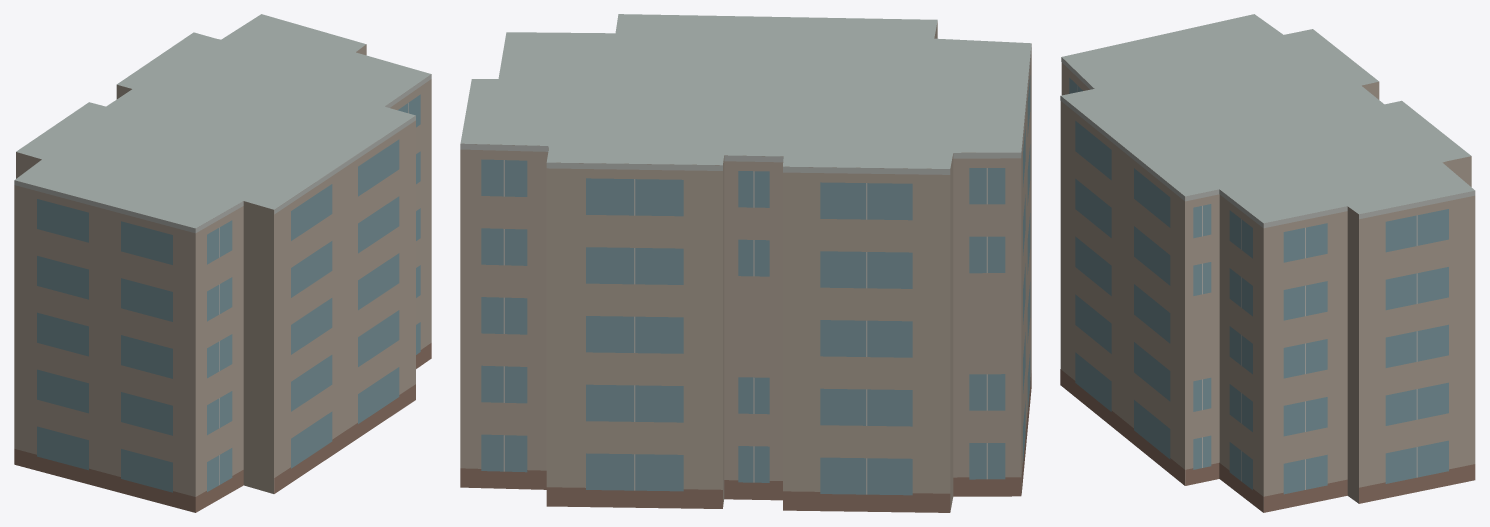
Rendered from survey-upis-32863823.glb.
3 views of the same model, side by side, from view 1: azimuth 30°, elevation 25°; view 2: azimuth 150°, elevation 25°; view 3: azimuth 270°, elevation 25° (orthographic). The views are drawn at different scales.
Visible parts, largest first — view 1: survey-upis-32863823.tmp; view 2: survey-upis-32863823.tmp; view 3: survey-upis-32863823.tmp.
Boxes of the visible parts, box(x1,y1,x2,y2) form: survey-upis-32863823.tmp: box(14, 14, 431, 512); survey-upis-32863823.tmp: box(460, 14, 1031, 512); survey-upis-32863823.tmp: box(1060, 14, 1475, 512).
Bounding box in the file's own units: 22.15 × 14.27 × 18.54.
